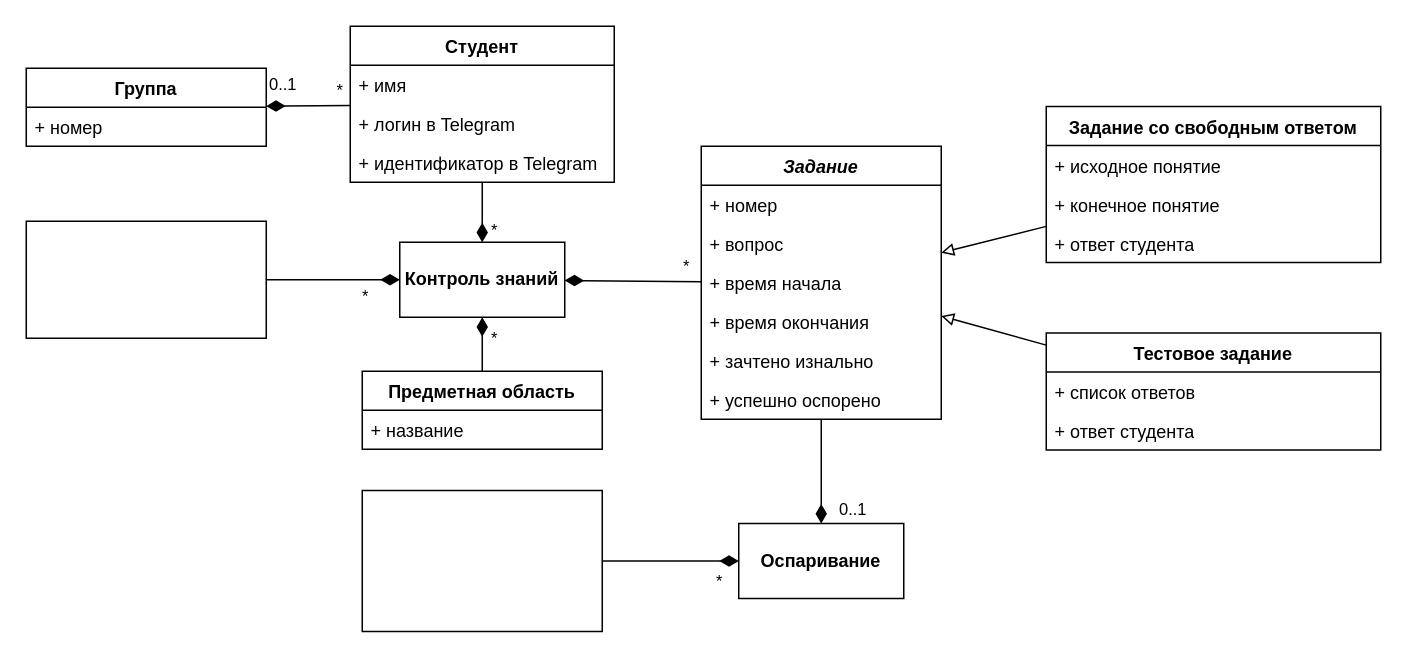
This 1407x659 diagram has some shape labels left out. The shapes that lost their labels are listed below. From the top down, each one's centre as x and y in pixels, then its label:
the point at 145,279: «enumeration» Тип контроля знаний + Тест + Со свободным ответом
the point at 481,560: «enumeration» Статус оспаривания + Необработано + Отклонено + Оспорено
